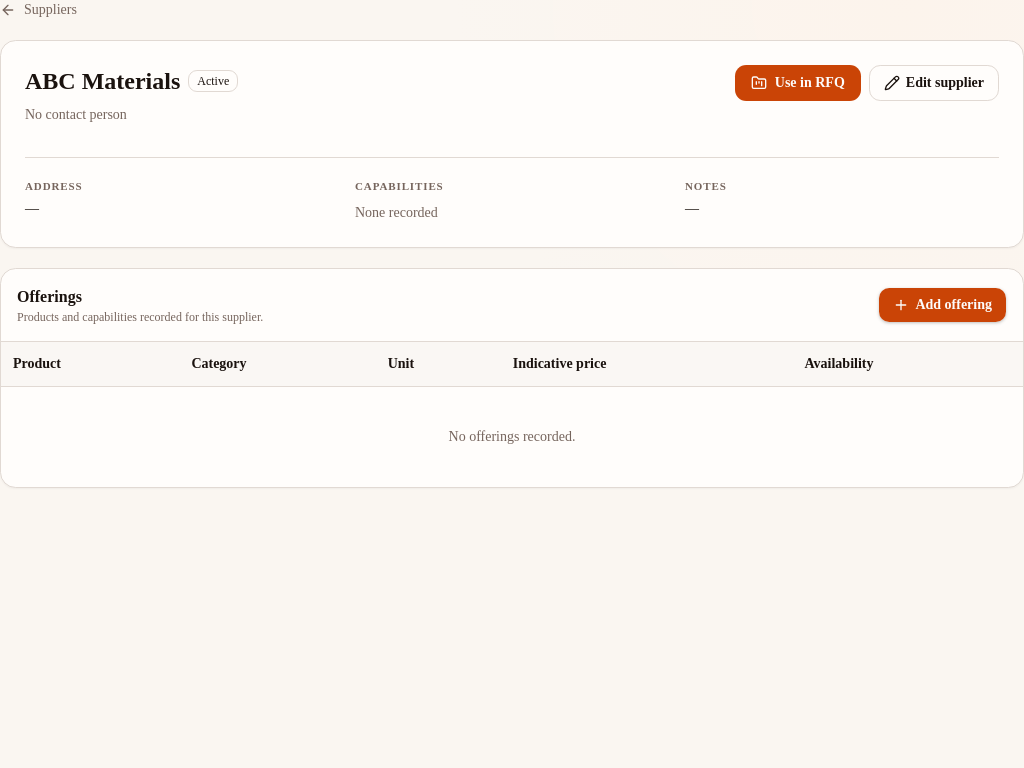
SupplierDetail offering form › requires the as-of date and unit once a price is entered, and blocks submission client-side without them
Click the button "Add offering".
click(943, 304)  # box [878, 286, 1007, 322]
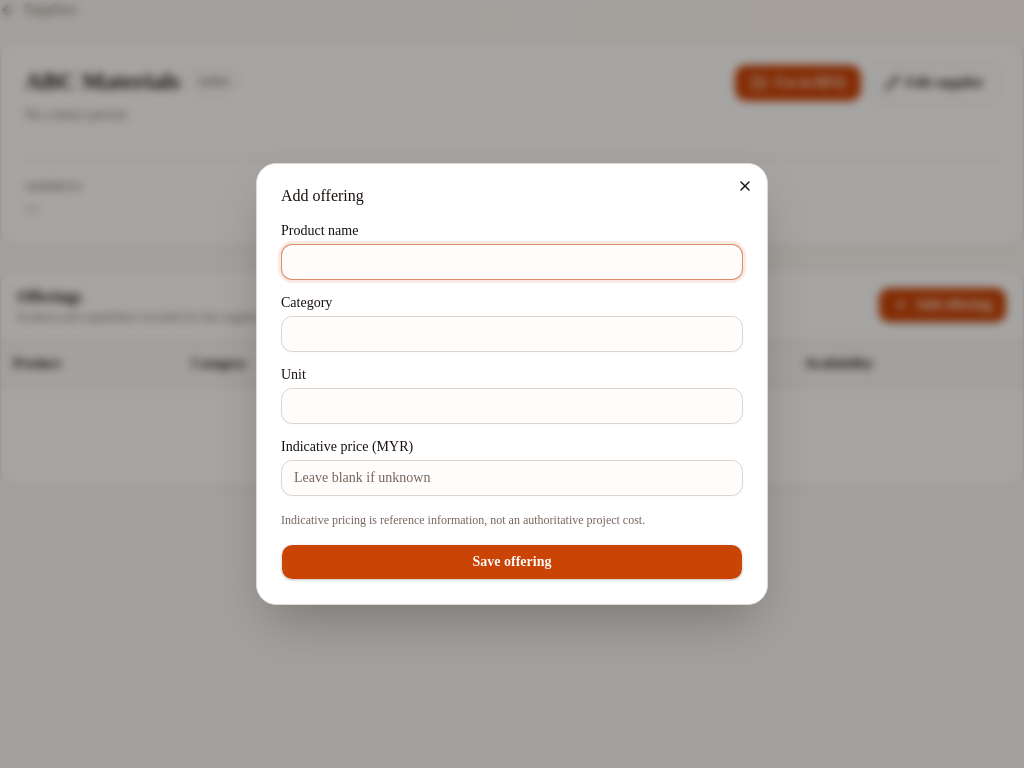
Type "OPC Cement" into the field named "productName" below "Product name".
click(512, 262); type("OPC Cement")  # box [281, 244, 743, 280]
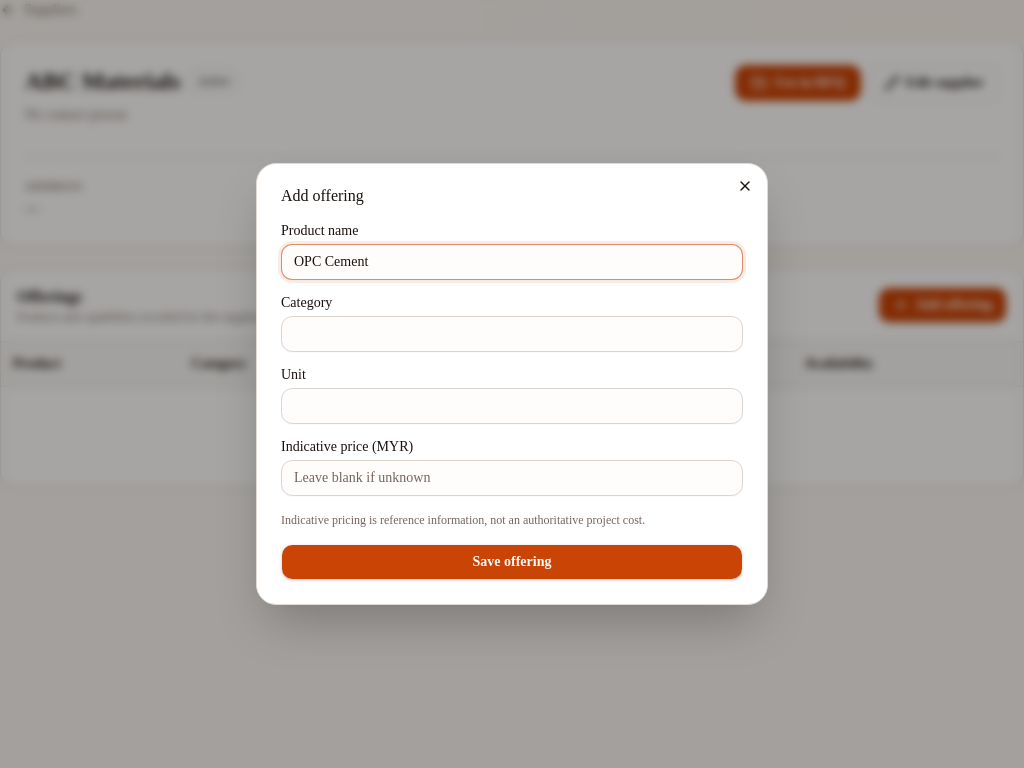
Type "100.00" into the field named "price".
click(512, 478); type("100.00")  # box [281, 460, 743, 496]
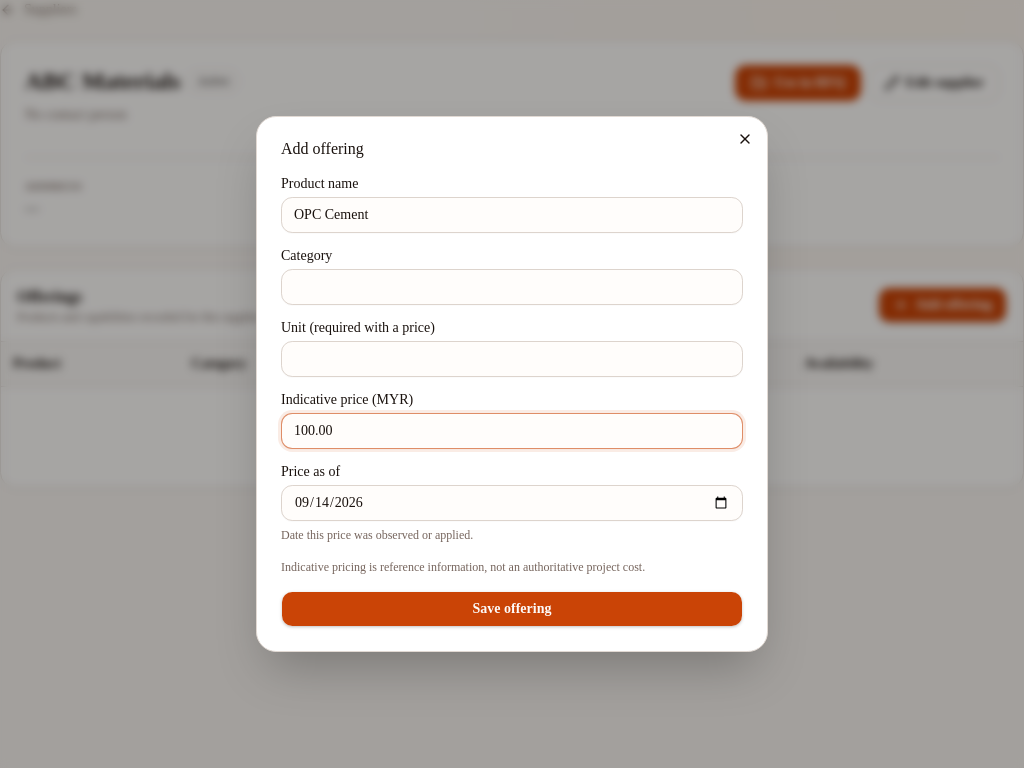
Clear the date field named "priceAsOf" at (512, 503), box [281, 485, 743, 521]
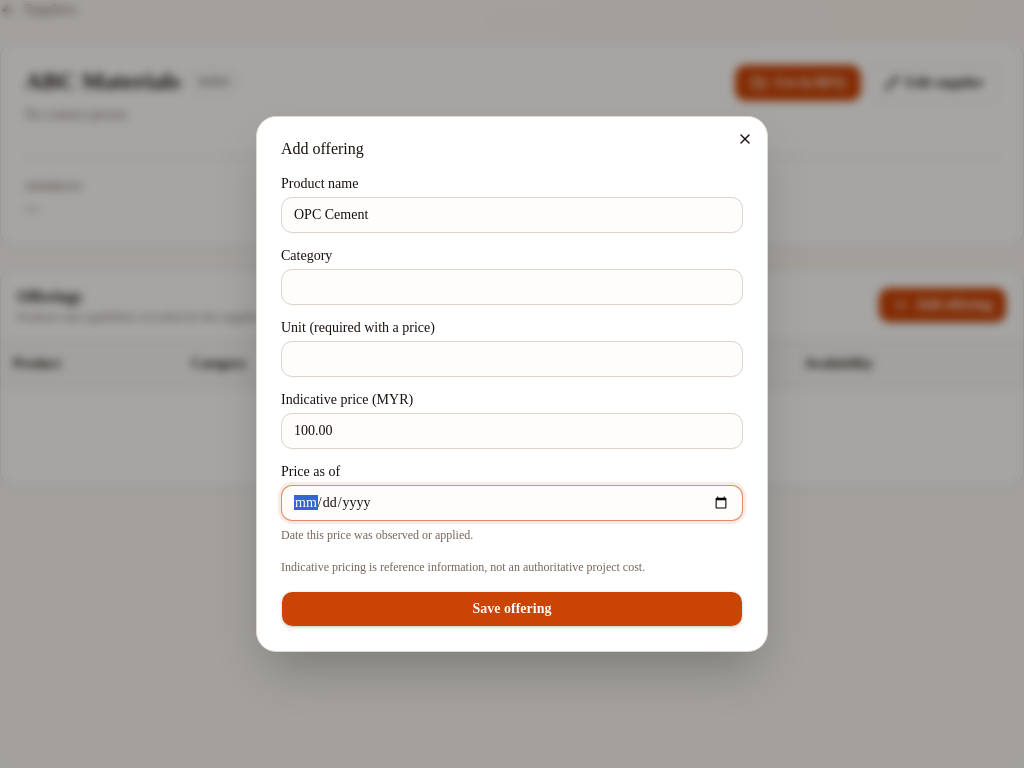
Click the button "Save offering".
click(512, 609)  # box [281, 591, 743, 627]
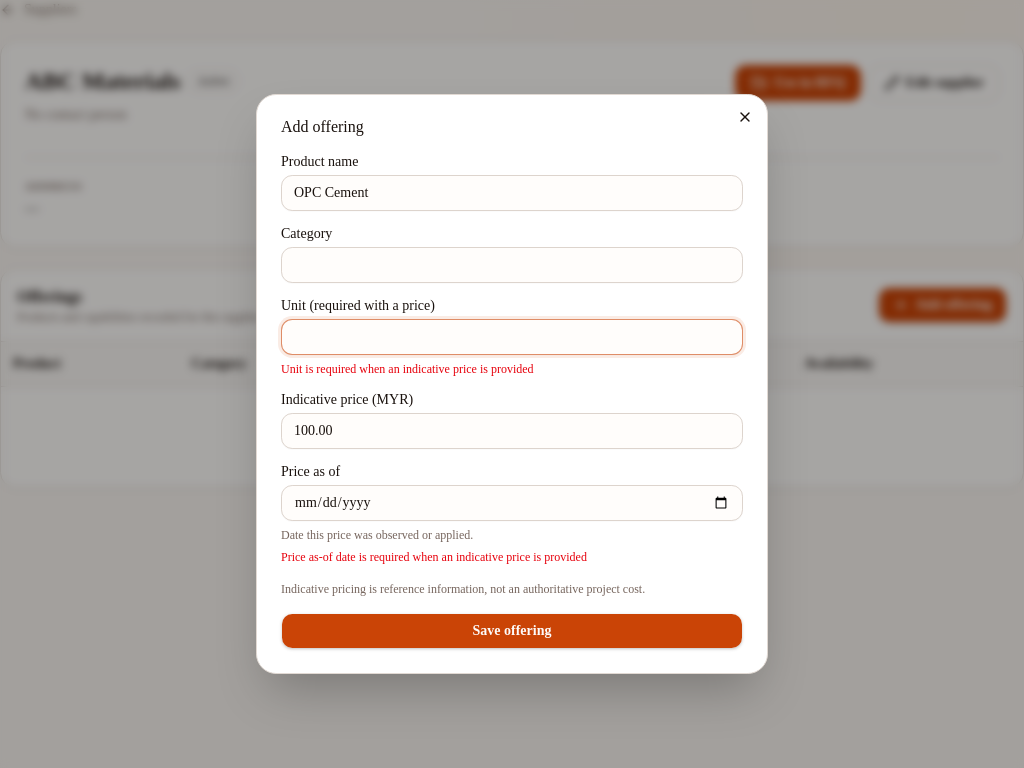
Expected: the text "Unit is required when an indicative price is provided" is shown, [281, 362, 534, 376]
Expected: the text "Price as-of date is required when an indicative price is provided" is shown, [281, 550, 587, 564]
